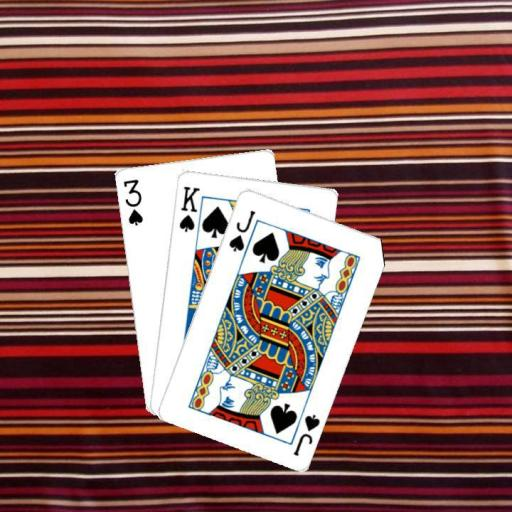3S: (120, 176, 145, 227)
JS: (225, 207, 257, 253), (290, 411, 322, 457)
KS: (176, 182, 201, 233)
